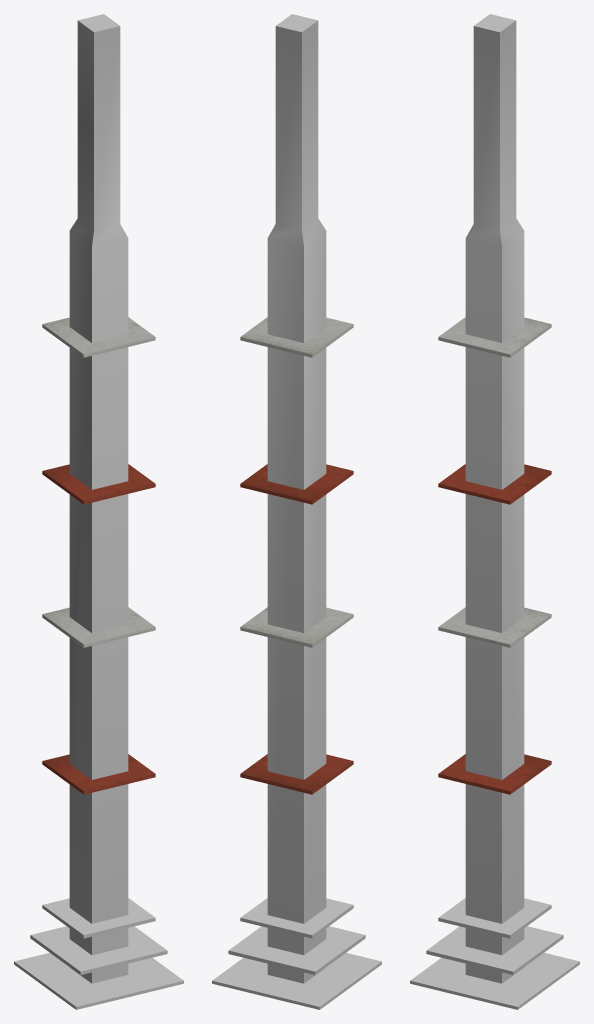
Rendered from smoke_tower01_LOD3.fbx.
3 views of the same model, side by side, from view 1: azimuth 30°, elevation 25°; view 2: azimuth 150°, elevation 25°; view 3: azimuth 330°, elevation 25° (orthographic).
Parts seen in each view (by area): view 1: Mesh_Object; view 2: Mesh_Object; view 3: Mesh_Object.
Part boxes in pixels (x1,y1,x2,y2): Mesh_Object: (14, 14, 183, 1009); Mesh_Object: (212, 14, 381, 1009); Mesh_Object: (410, 14, 579, 1009).
Bounding box in the file's own units: 501 × 4280 × 501.
